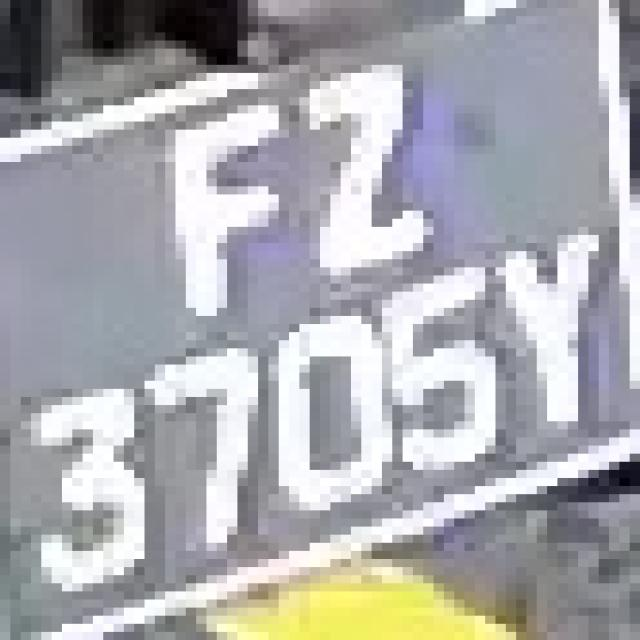0: (268, 276, 392, 526)
3: (10, 364, 155, 624)
5: (372, 243, 516, 470)
7: (124, 341, 289, 584)
F: (144, 57, 310, 308)
Y: (485, 195, 630, 438)
Z: (258, 40, 434, 316)
